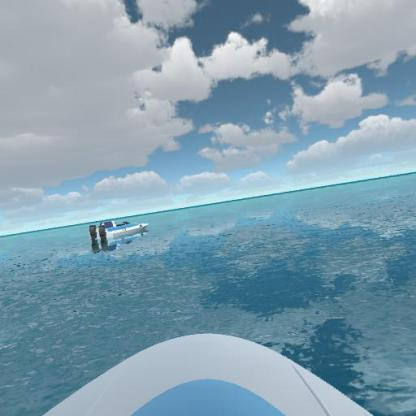usv1: (86, 213, 155, 245)
